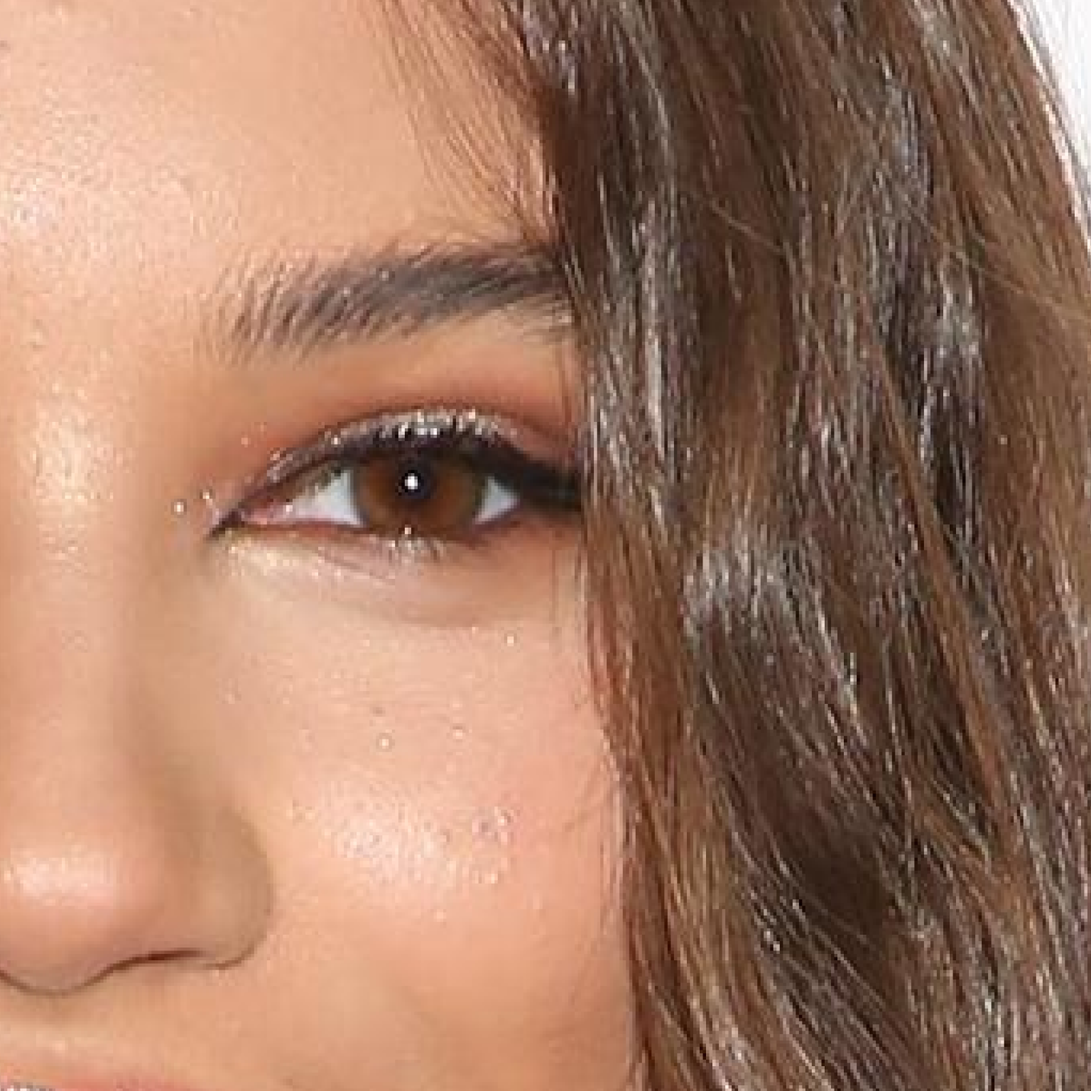iris: (353, 447, 484, 529)
pupil: (396, 467, 430, 499)
sclera: (271, 470, 363, 527), (472, 475, 518, 522)
